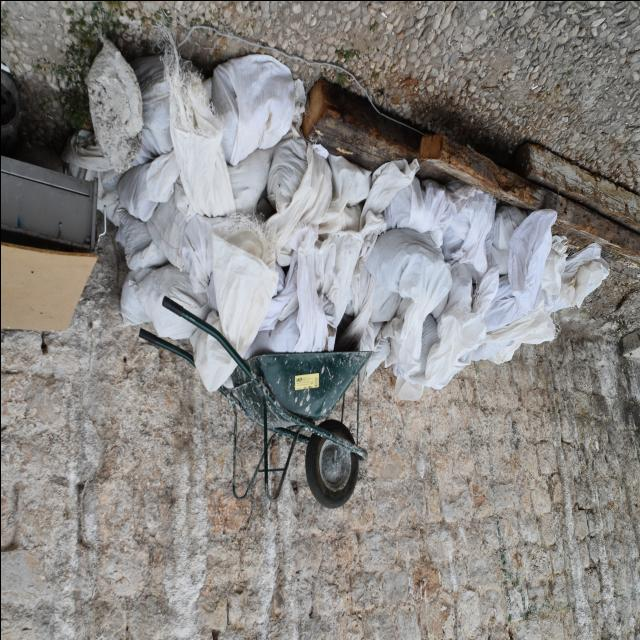entulho: (380, 208, 580, 404), (410, 118, 640, 253), (3, 141, 108, 333), (288, 59, 432, 175), (200, 62, 306, 164), (290, 174, 385, 276), (306, 245, 376, 364), (187, 262, 251, 390), (266, 131, 330, 257), (120, 64, 199, 162), (112, 139, 192, 220), (114, 268, 208, 334), (206, 148, 272, 221), (250, 264, 308, 345), (163, 190, 212, 266), (120, 202, 158, 272)
